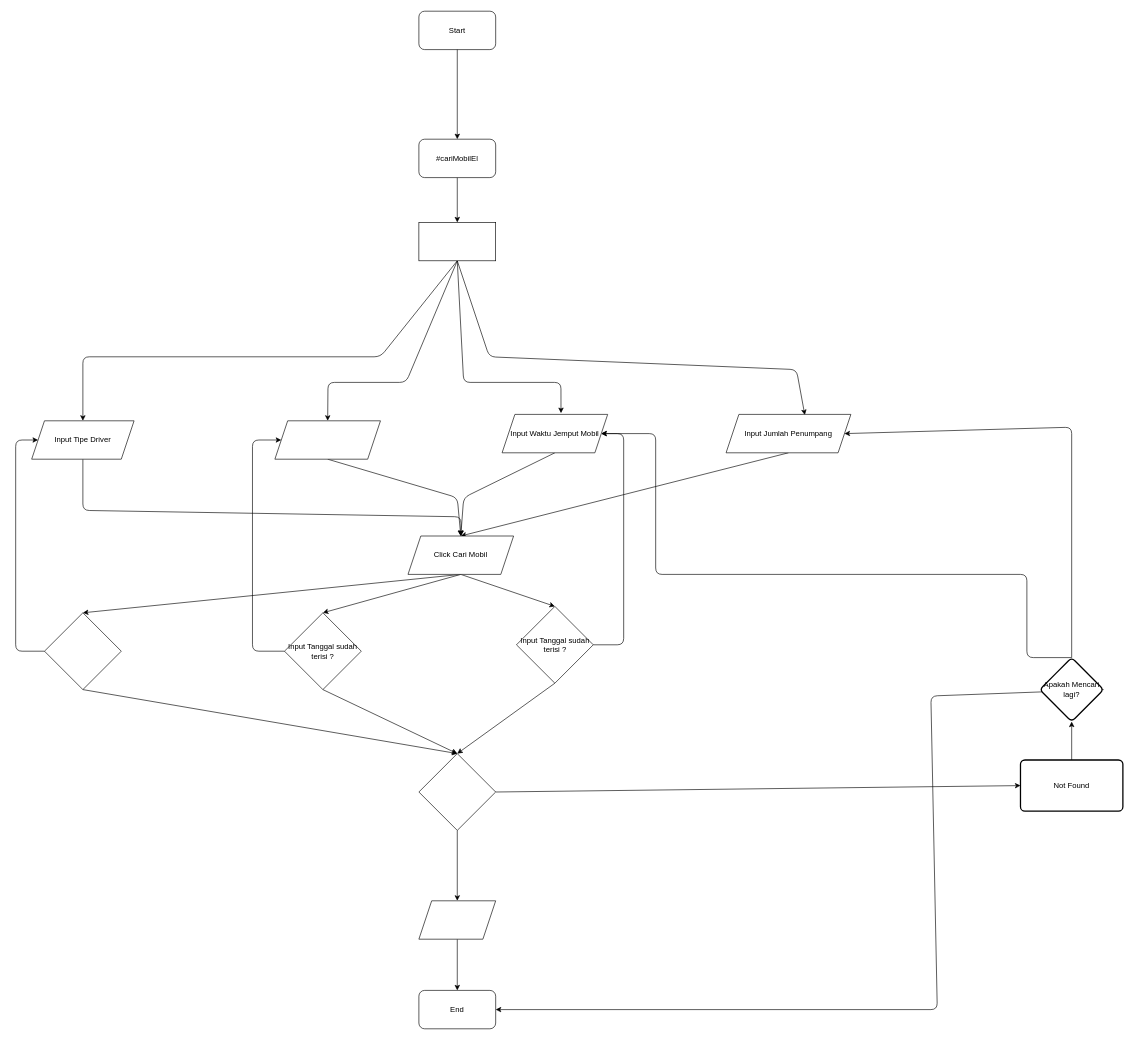
Image size: 1135x1040. Some labels were removed from this diagram. The centre of each missing label's shape, as x and y in pixels:
Change to Page "Cari Mobil": point 457,241
Data ditemukan ?: point 457,791
Input Driver sudah terisi ?: point 82,651
Input Tanggal: point 327,439
List Mobil: point 457,919
